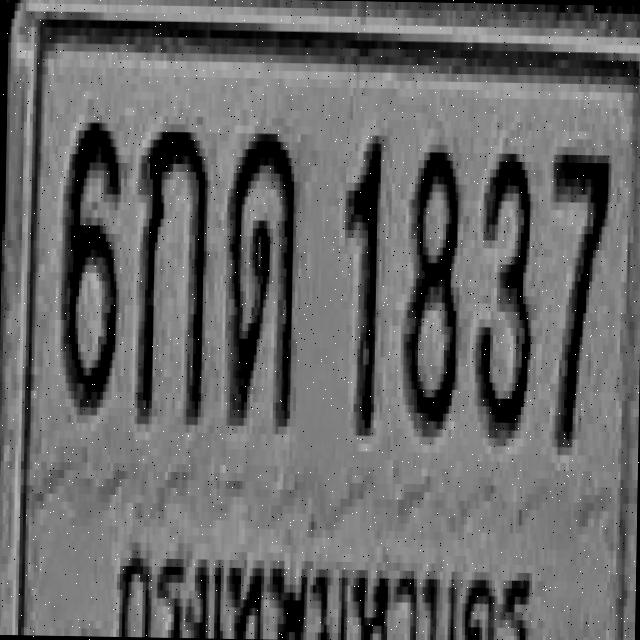1: (340, 130, 382, 432)
10GorGai: (134, 116, 208, 424)
29DorDek: (225, 125, 299, 426)
3: (474, 145, 534, 438)
6: (61, 114, 120, 407)
7: (547, 146, 610, 448)
8: (402, 140, 462, 433)
